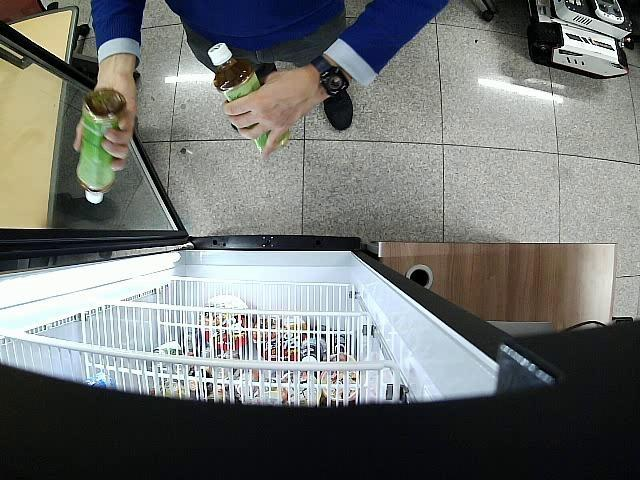19_17cha: (208, 42, 289, 152), (76, 88, 126, 205)
